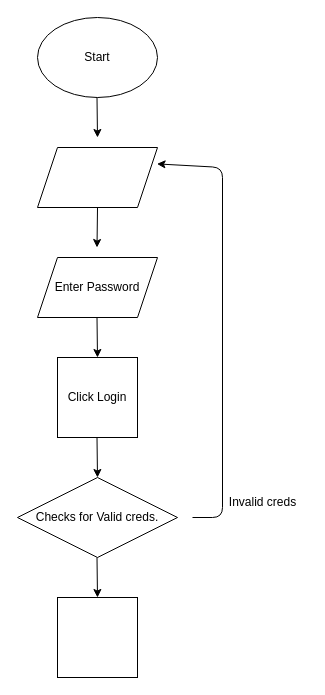
Some shapes in this 325 by 695 pixel diagram are drawn without their labels. Here are the shapes that lost their labels. From the top down, the centre of each, then its label:
pixel 97 177: Enter Username
pixel 97 637: Navigate to home page
